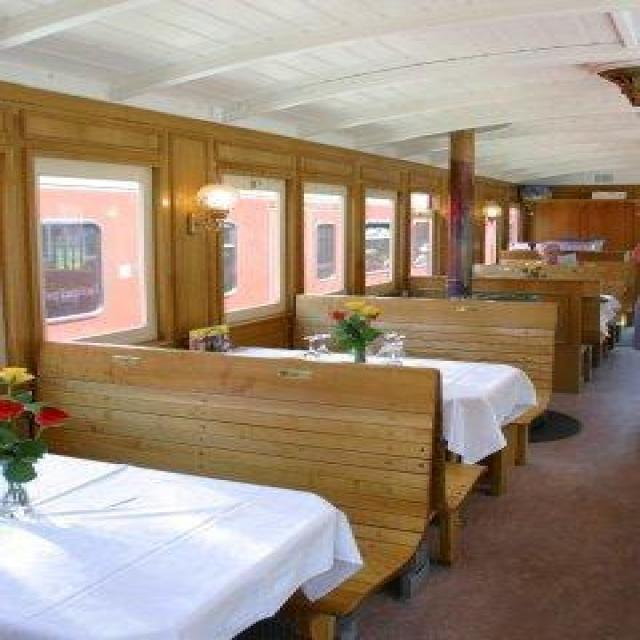crib: (29, 338, 446, 638)
plants: (0, 364, 69, 504), (325, 299, 384, 361)
table: (221, 343, 539, 494)
windows: (27, 149, 157, 343), (213, 169, 288, 323), (298, 180, 346, 295), (360, 183, 397, 295), (408, 188, 435, 276)
